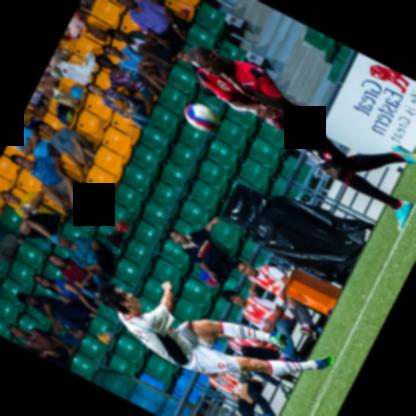handbag: (56, 101, 75, 125)
